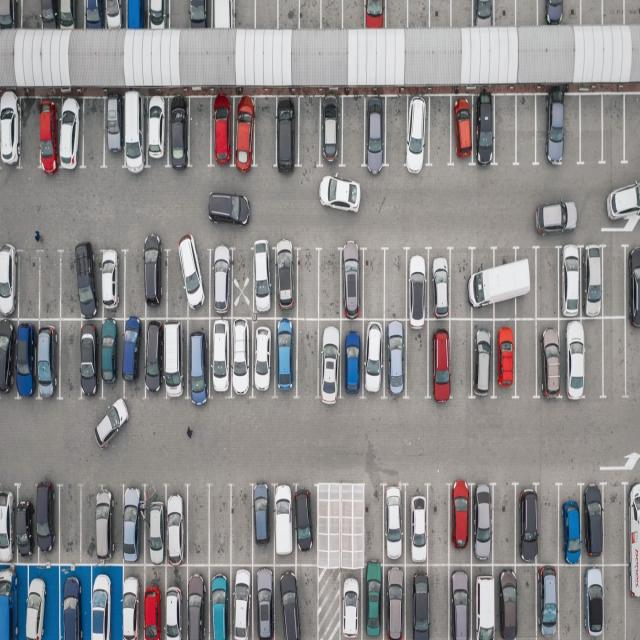space-empty: (404, 320, 431, 398), (292, 320, 319, 397), (447, 319, 473, 398), (602, 318, 628, 396), (516, 318, 542, 395), (423, 564, 450, 638), (207, 487, 232, 566), (426, 485, 450, 567), (492, 487, 517, 565), (292, 564, 318, 638), (557, 562, 582, 638), (341, 96, 367, 169), (231, 488, 255, 567), (426, 96, 452, 168), (295, 96, 321, 168), (185, 486, 209, 564), (188, 97, 214, 169), (59, 320, 83, 397), (361, 488, 384, 568), (582, 318, 605, 397), (535, 246, 560, 318), (255, 96, 280, 168), (604, 563, 628, 638), (448, 250, 474, 319), (82, 99, 108, 168), (58, 486, 82, 560), (538, 488, 561, 565), (229, 243, 252, 320), (602, 485, 624, 565), (604, 244, 628, 317), (384, 97, 408, 170), (603, 96, 628, 166), (61, 251, 87, 318), (492, 93, 516, 165), (297, 247, 321, 318), (580, 94, 604, 165), (39, 566, 62, 640), (360, 251, 385, 319), (316, 250, 341, 318), (383, 251, 407, 321), (20, 99, 43, 171), (515, 94, 538, 165), (124, 250, 148, 318), (516, 566, 538, 638), (38, 252, 61, 318), (166, 245, 187, 317), (561, 93, 581, 166), (18, 252, 40, 318), (82, 488, 100, 564), (318, 491, 336, 567), (624, 318, 640, 396), (624, 93, 640, 162), (319, 1, 343, 32), (342, 0, 366, 30), (384, 0, 408, 29), (407, 0, 431, 29), (299, 0, 322, 30), (450, 0, 474, 28), (254, 0, 277, 29), (21, 0, 43, 30), (169, 0, 191, 30), (277, 0, 299, 30), (430, 0, 453, 28), (234, 0, 256, 29), (515, 0, 538, 27), (580, 0, 604, 25), (493, 0, 515, 27), (601, 1, 624, 24), (624, 0, 640, 24)
space-occupied: (560, 317, 595, 397), (84, 562, 120, 638), (57, 563, 89, 638), (18, 565, 50, 640), (68, 248, 100, 320), (180, 242, 210, 318), (539, 94, 570, 166), (186, 318, 212, 401), (471, 564, 500, 638), (205, 564, 234, 638), (537, 320, 564, 399), (362, 320, 389, 398), (251, 318, 278, 396), (164, 485, 191, 563), (207, 243, 235, 318), (446, 483, 472, 563), (160, 318, 186, 398), (32, 320, 59, 397), (159, 567, 187, 640), (272, 318, 298, 396), (30, 481, 56, 559), (380, 483, 405, 564), (139, 564, 166, 639), (340, 316, 365, 396), (207, 318, 232, 398), (227, 318, 252, 398), (317, 316, 342, 396), (121, 486, 146, 566), (226, 564, 253, 638), (428, 320, 453, 399), (381, 319, 406, 398), (405, 484, 430, 563), (559, 247, 586, 320), (492, 317, 517, 395), (448, 564, 474, 639), (122, 318, 147, 396), (120, 564, 146, 639), (182, 564, 208, 639), (404, 98, 431, 170), (471, 246, 498, 318), (491, 246, 518, 318), (319, 96, 345, 170), (449, 95, 476, 166), (100, 250, 128, 318), (254, 241, 279, 317), (12, 319, 36, 398), (536, 563, 561, 638), (472, 318, 496, 396), (472, 486, 496, 564), (92, 485, 116, 563), (209, 96, 234, 170), (123, 96, 148, 170), (253, 564, 278, 638), (340, 569, 366, 640), (578, 562, 602, 638), (142, 485, 165, 564), (274, 97, 299, 169), (578, 245, 603, 317), (380, 563, 404, 638), (274, 563, 298, 638), (274, 242, 298, 316), (292, 488, 316, 562), (560, 489, 584, 563), (406, 564, 430, 638), (253, 486, 276, 563), (99, 319, 122, 396), (515, 488, 538, 565), (339, 249, 365, 317), (406, 250, 432, 318), (426, 251, 452, 319), (144, 96, 168, 169), (494, 567, 518, 640), (7, 563, 30, 639), (364, 98, 388, 170), (230, 96, 254, 168), (168, 98, 192, 170), (512, 246, 536, 318), (273, 486, 296, 561), (144, 318, 166, 396), (580, 488, 602, 566), (60, 98, 84, 169), (38, 98, 61, 171), (359, 567, 382, 640), (144, 244, 167, 316), (104, 98, 127, 168), (82, 320, 103, 396), (474, 94, 496, 166), (0, 96, 21, 167), (0, 564, 19, 640), (14, 490, 34, 562), (0, 249, 19, 318), (0, 490, 17, 565), (625, 482, 640, 563), (625, 561, 640, 637), (0, 319, 14, 395), (540, 0, 580, 25), (627, 244, 640, 319), (125, 0, 149, 31), (144, 0, 169, 29), (57, 0, 81, 30), (84, 0, 108, 30), (210, 0, 234, 29), (188, 0, 211, 29), (103, 0, 125, 30), (473, 0, 497, 27), (362, 0, 385, 28), (0, 0, 20, 30), (39, 0, 57, 29)
